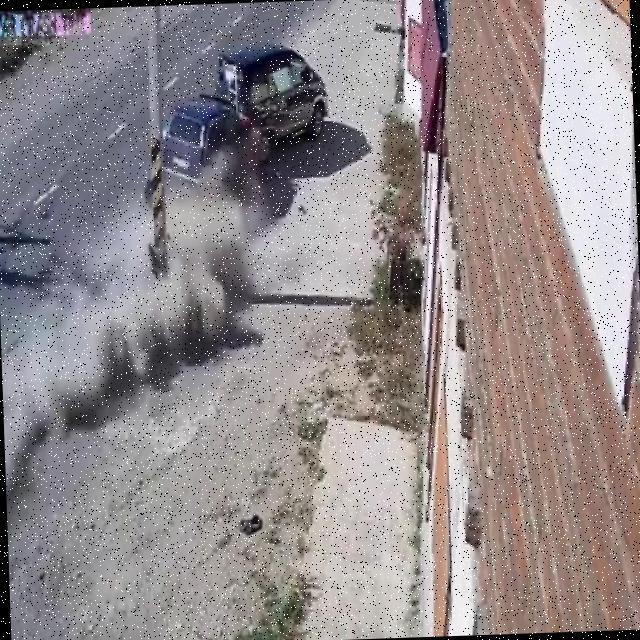accident: (195, 46, 283, 184)
